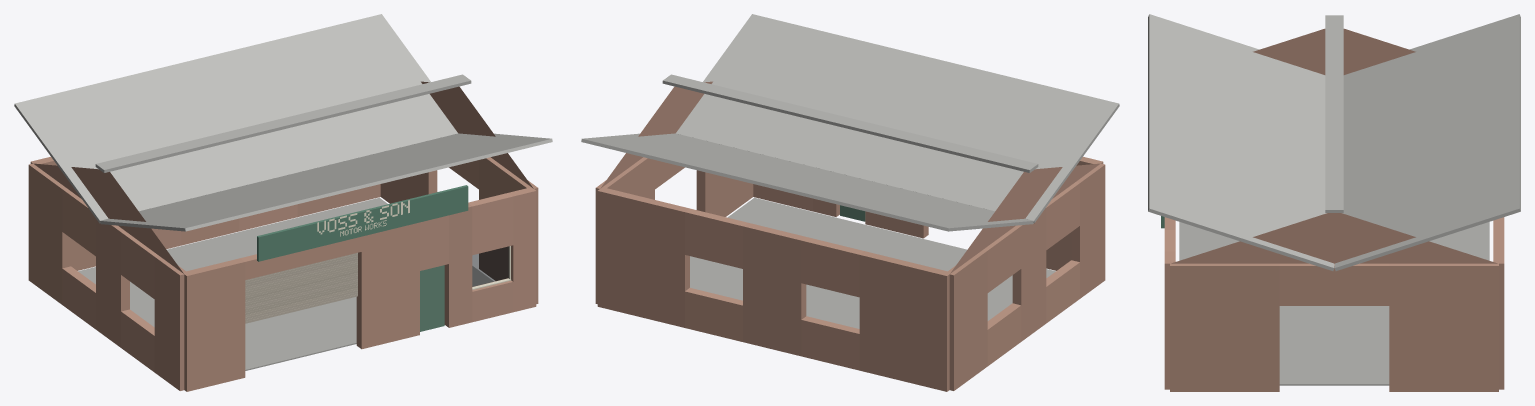
Rendered from garage_shell_a_v.glb.
The picture shows the model from 3 angles, left to right: view 1: azimuth 30°, elevation 25°; view 2: azimuth 150°, elevation 25°; view 3: azimuth 270°, elevation 25°; orthographic projection. The views are drawn at different scales.
Parts seen in each view (by area): view 1: body, roller_door; view 2: body; view 3: body.
Boxes of the visible parts, x1,y1,x2,y2 form: body: (14,14,552,391); roller_door: (245,252,357,323); body: (581,14,1119,391); body: (1148,14,1520,391).
Size of what is drawn, in the model's own units: 12.6 by 5.61 by 10.2.
